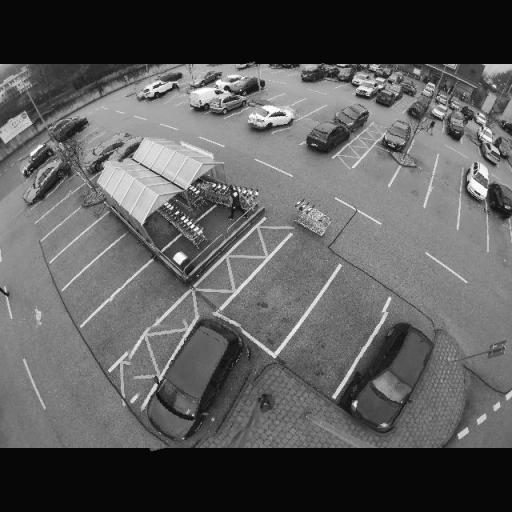busy: (129, 312, 258, 446), (352, 312, 434, 428), (21, 160, 70, 202), (246, 102, 295, 134), (82, 135, 126, 169), (460, 162, 494, 202), (304, 122, 348, 152), (332, 100, 372, 130), (378, 119, 414, 151), (136, 78, 178, 101), (489, 180, 512, 217), (52, 118, 88, 141), (24, 145, 53, 170), (209, 94, 244, 114), (442, 112, 467, 139), (229, 76, 261, 95), (189, 68, 221, 87), (299, 64, 327, 83), (405, 98, 427, 120), (352, 81, 379, 98), (374, 90, 398, 108), (216, 73, 240, 90), (427, 105, 448, 121), (160, 70, 184, 84), (336, 68, 356, 82), (234, 62, 256, 72)
free: (314, 302, 366, 348), (262, 266, 312, 304), (110, 290, 157, 330), (91, 260, 127, 288), (427, 188, 458, 216), (460, 210, 486, 236), (488, 224, 512, 250), (436, 159, 462, 182), (73, 236, 98, 258), (397, 174, 424, 192), (366, 156, 391, 175), (412, 145, 436, 164), (44, 187, 66, 205), (236, 105, 256, 124), (78, 126, 98, 144), (290, 121, 312, 135), (54, 201, 72, 218), (61, 220, 81, 234), (86, 134, 104, 149), (172, 94, 188, 108), (160, 93, 180, 104), (276, 96, 294, 106), (298, 102, 314, 112), (320, 110, 334, 119)
